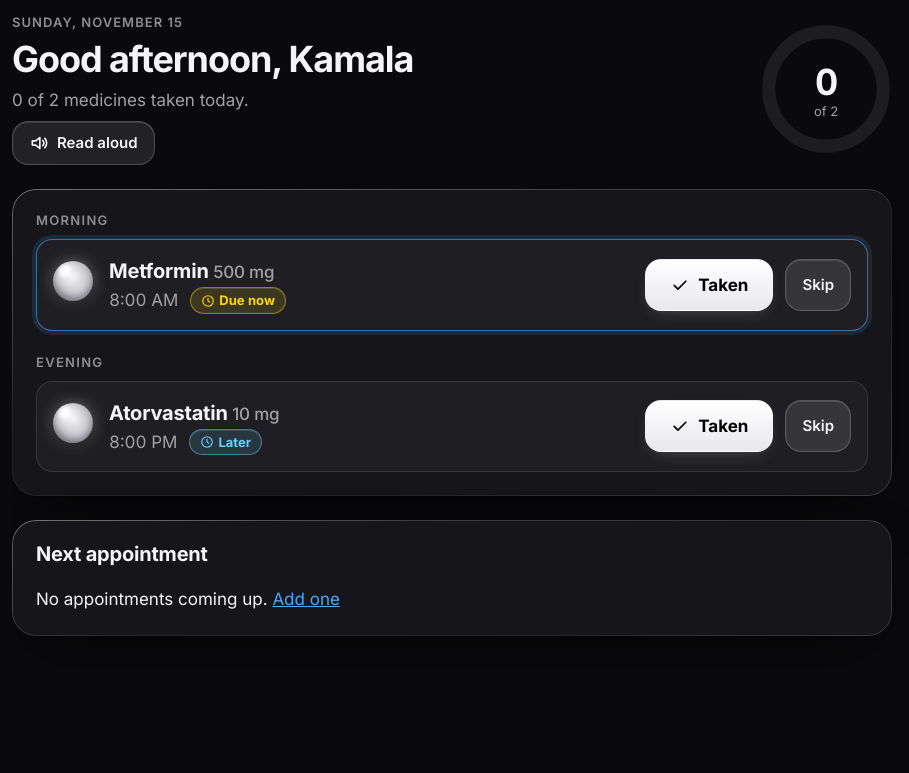
Today › logs a dose as taken and announces it in the live region
Click the button with aria-label "Mark Metformin as taken". click: {"x": 709, "y": 285}
box: [645,259,773,311]
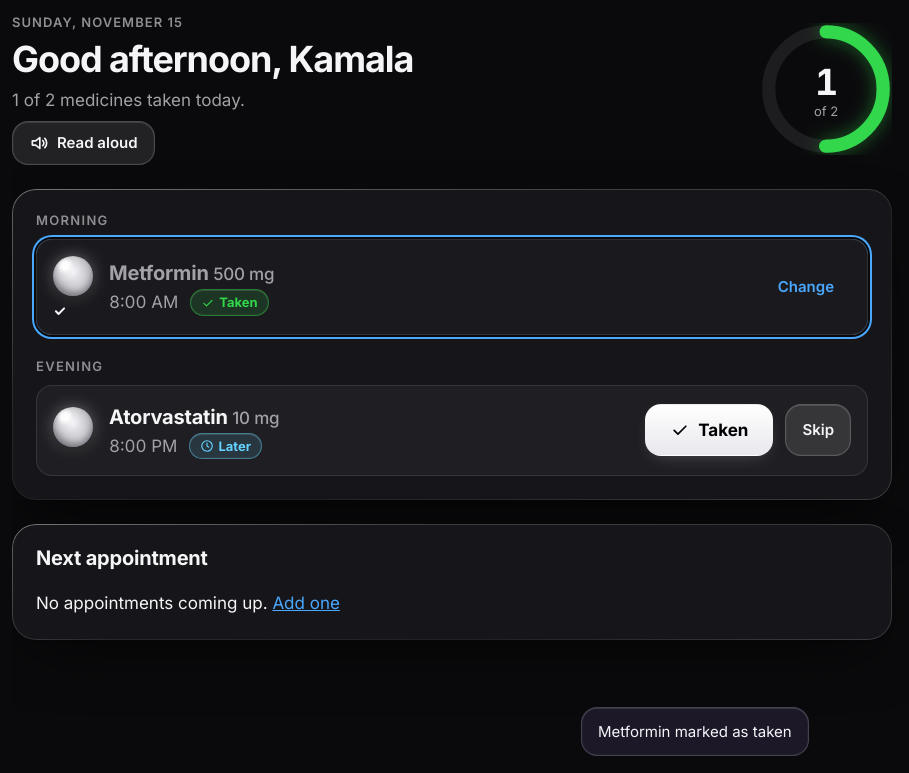
Expected: the message reads "Metformin marked as taken", [598,722,792,741]
Expected: the text "Taken" is shown, [190,290,269,316]
